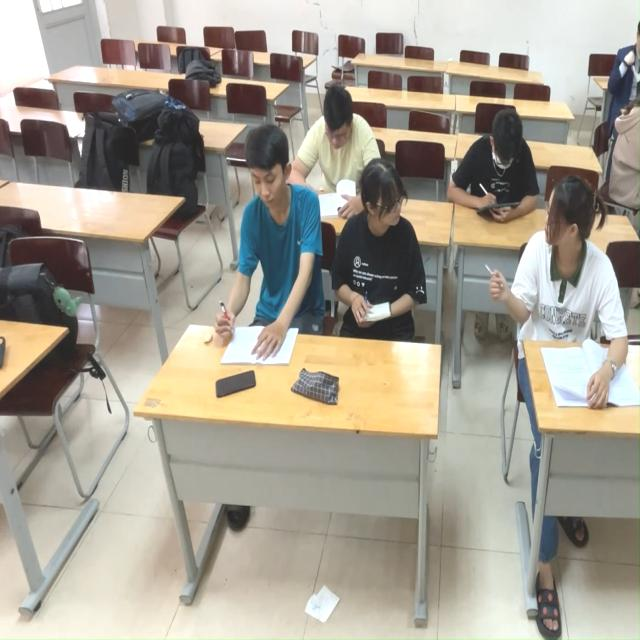read: (217, 120, 328, 371), (447, 112, 544, 224)
